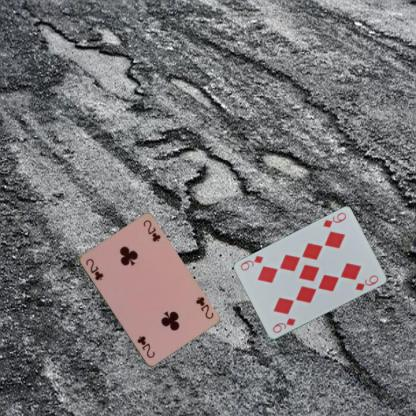2c: (193, 294, 214, 320), (83, 256, 104, 281)
9d: (320, 210, 347, 229), (270, 316, 297, 334)
